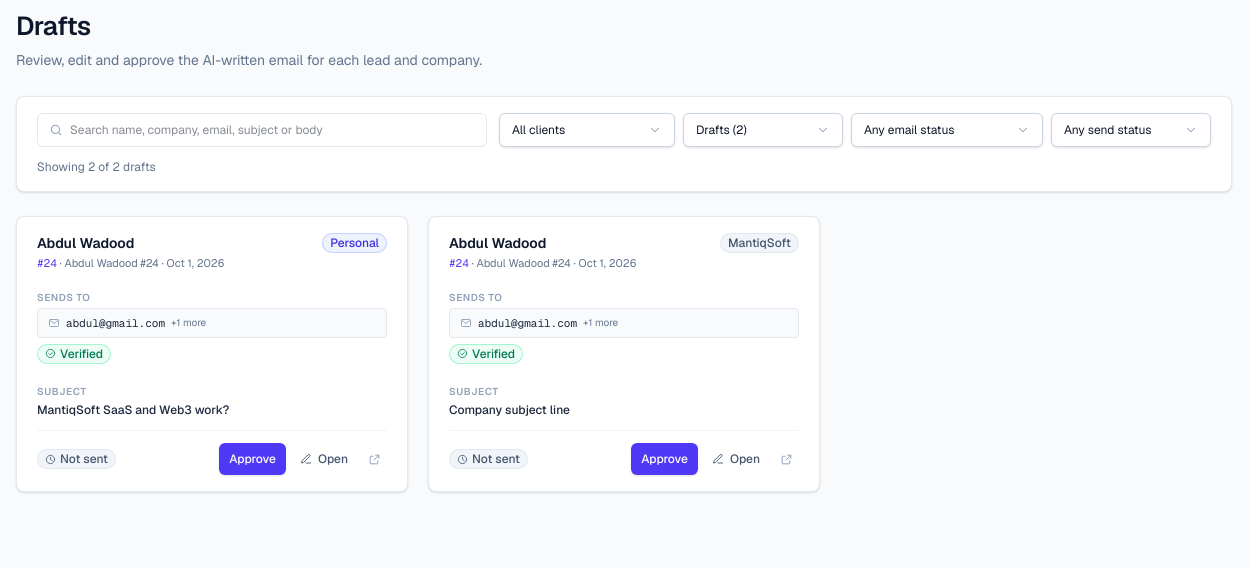
Scenario: DraftsPage › approves from the card and moves the draft out of the Drafts filter
Check: the text "Showing 2 of 2 drafts" is shown, box x1=37 y1=159 x2=156 y2=175
What coordinates should you click on to do the following:
click the button "Approve" below "MantiqSoft SaaS and Web3 work?"
I would click on:
 (253, 459)
Its box is x1=219 y1=443 x2=286 y2=475.
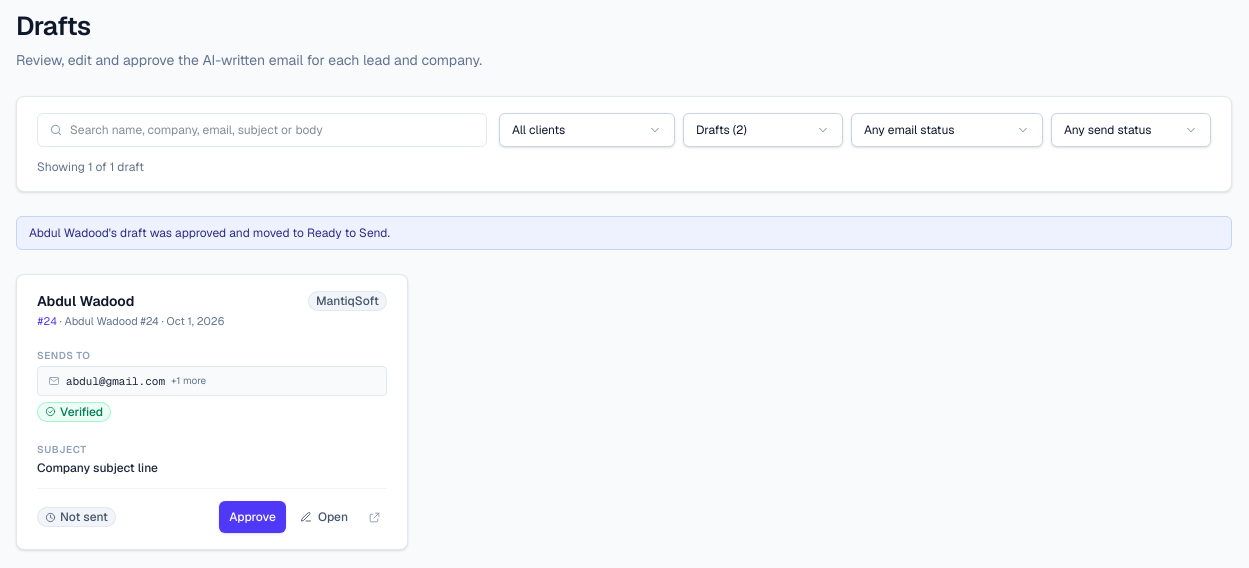
Check: the message shows "moved to Ready to Send", box x1=29 y1=225 x2=390 y2=241
